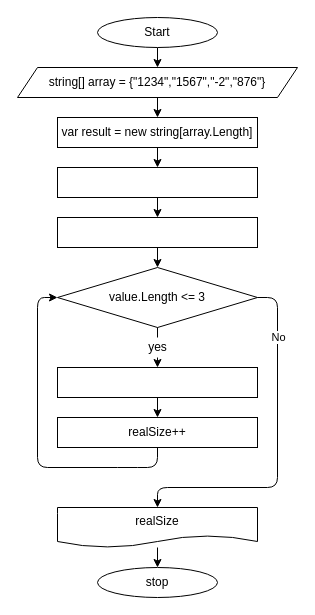
This 315x615 diagram has some shape labels left out. Each missing label, with the centre of its shape:
"foreach(var value in array)" belongs at [157,232].
"result[realSize]=value" belongs at [157,382].
"var realSize = 0" belongs at [157,182].
